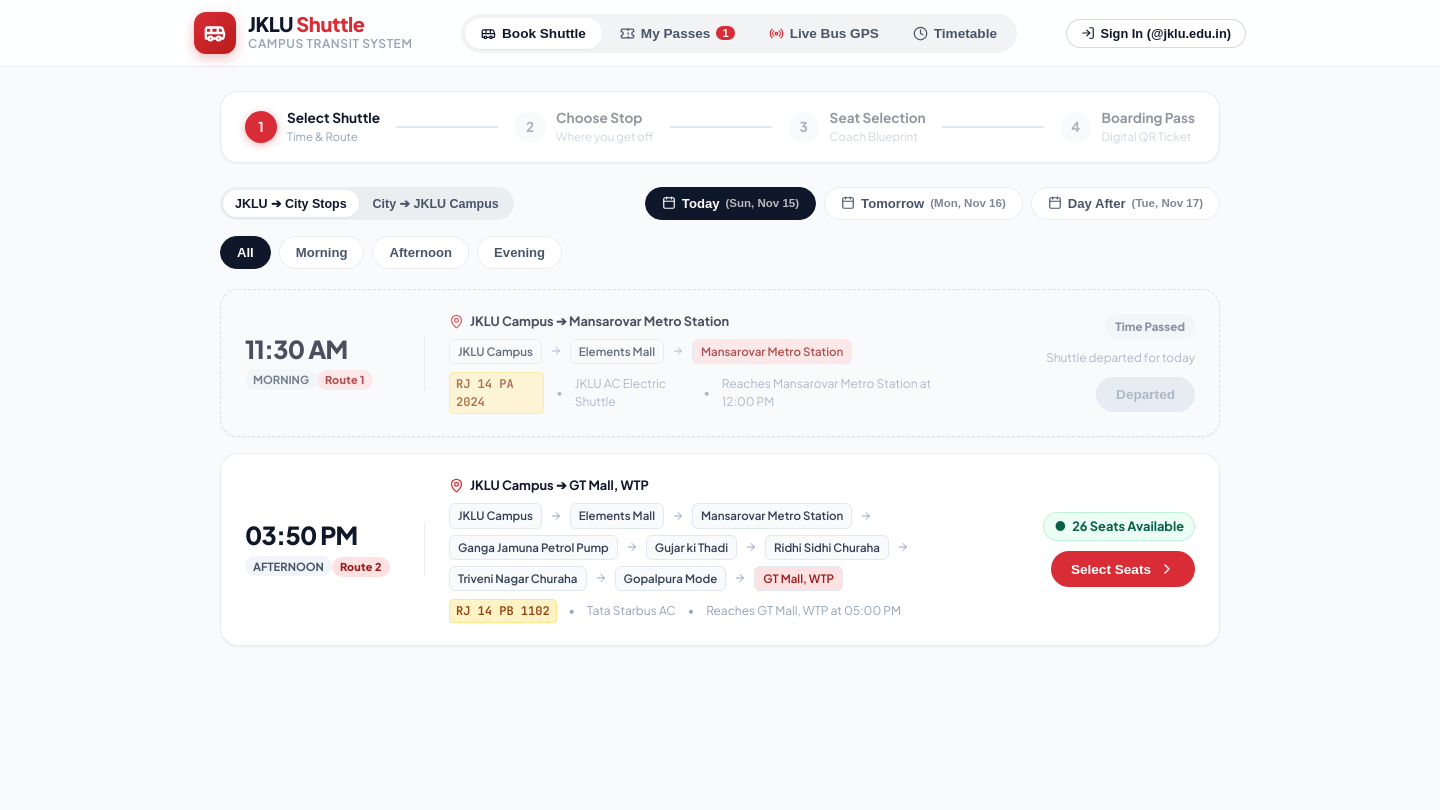
Test: Live Bus GPS Page Modifications › removes "GPS Active" green badge in page live bus gps
Click the button "Live Bus GPS".
click(824, 33)  # box [753, 18, 895, 48]
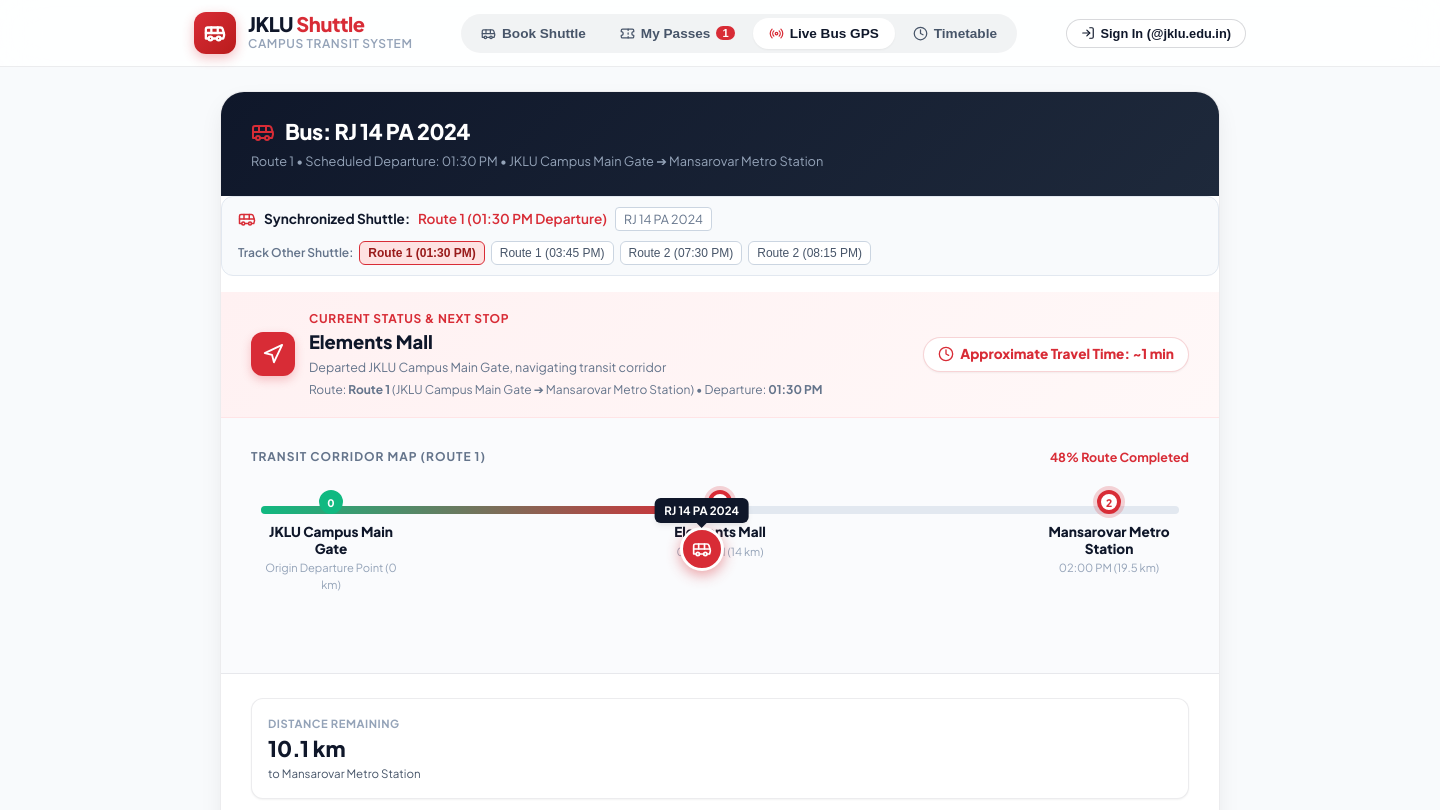
Now the text "1 Select Shuttle Time & Route" is gone
